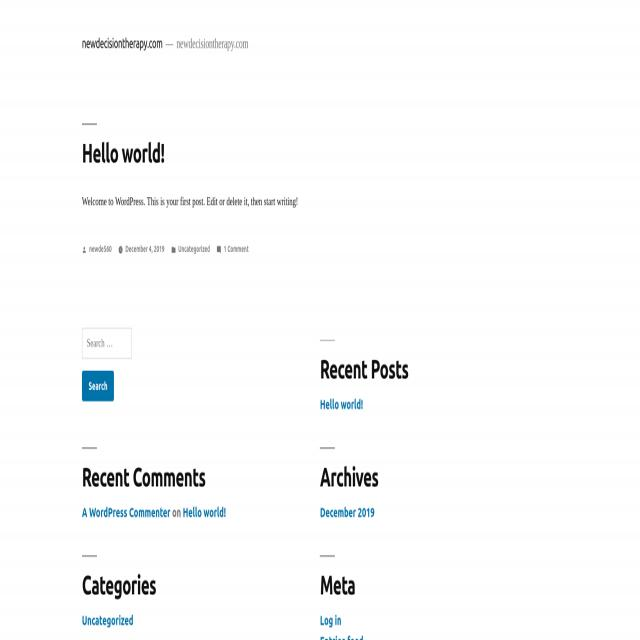button: (82, 371, 114, 401), (118, 246, 124, 254), (216, 246, 222, 254), (82, 246, 87, 254), (171, 246, 176, 254)
field: (82, 328, 132, 359)
